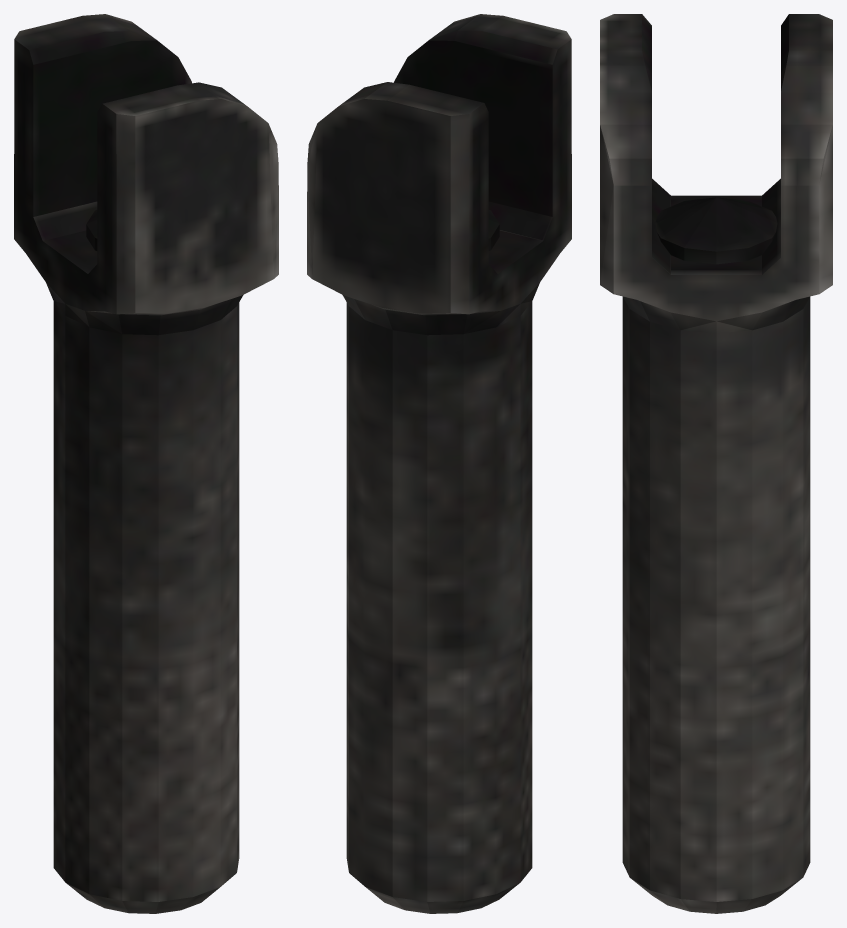
The picture shows the model from 3 angles, left to right: view 1: azimuth 30°, elevation 25°; view 2: azimuth 150°, elevation 25°; view 3: azimuth 270°, elevation 25°; orthographic projection.
Parts seen in each view (by area): view 1: TW_6513ef33e06849f06c0957ca_PZ_Import; view 2: TW_6513ef33e06849f06c0957ca_PZ_Import; view 3: TW_6513ef33e06849f06c0957ca_PZ_Import.
Part boxes in pixels (<box>): TW_6513ef33e06849f06c0957ca_PZ_Import: <box>14,14,278,913</box>; TW_6513ef33e06849f06c0957ca_PZ_Import: <box>307,14,571,913</box>; TW_6513ef33e06849f06c0957ca_PZ_Import: <box>600,14,832,913</box>.
Bounding box in the file's own units: 0.00586 × 0.00725 × 0.0286.
Materials: 1 (1 with a texture image).
